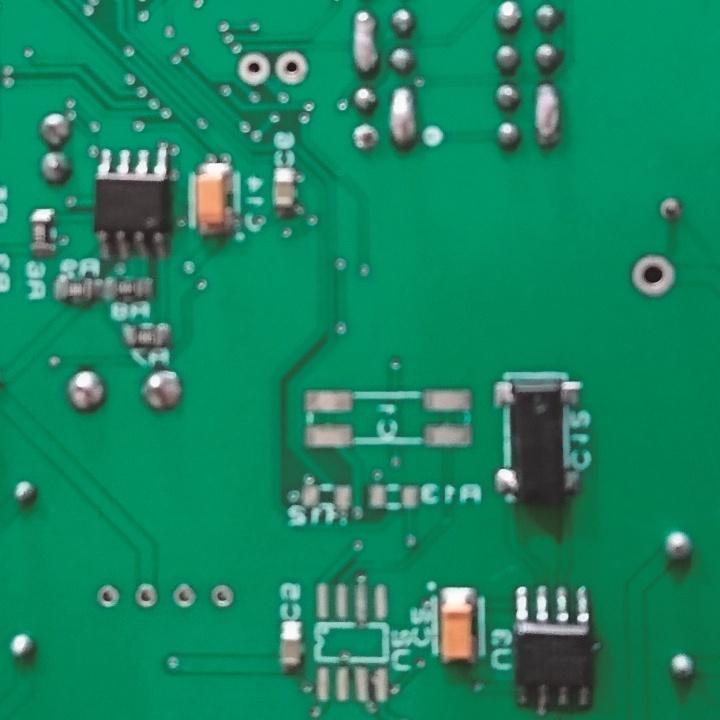F: (629, 253, 674, 296), (273, 48, 307, 90), (236, 50, 271, 88), (208, 580, 238, 611), (351, 122, 379, 153), (132, 580, 159, 609), (172, 579, 195, 612), (95, 581, 118, 613), (659, 193, 682, 221)
P: (533, 83, 564, 152), (387, 83, 417, 149), (350, 7, 379, 75)
